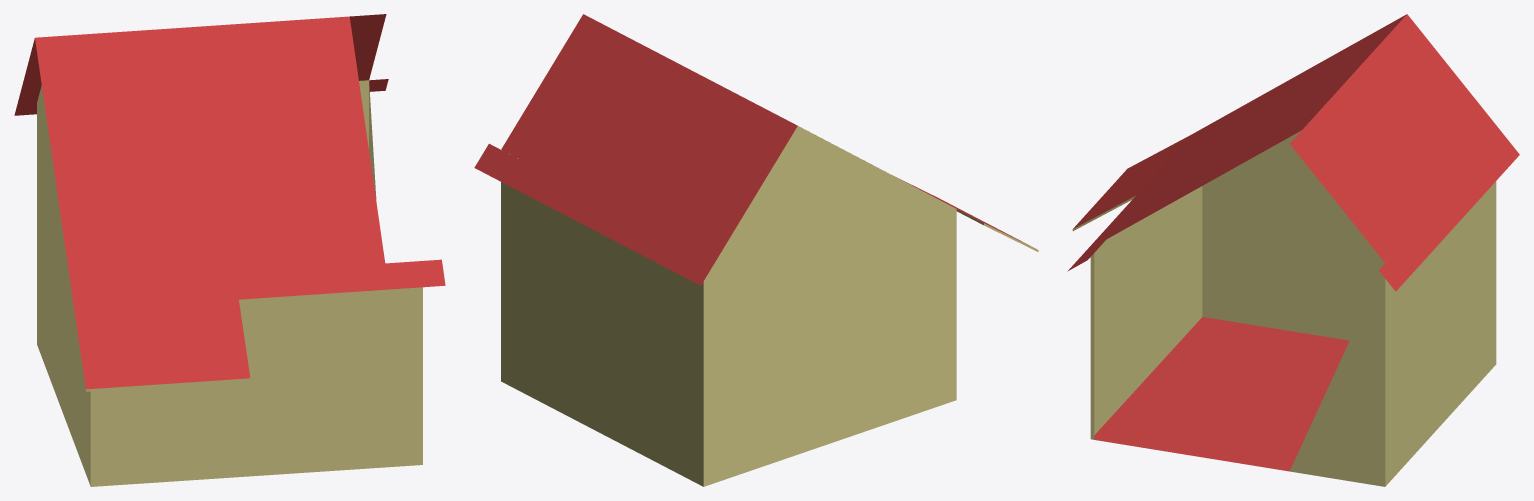
3 views of the same model, side by side, from view 1: azimuth 30°, elevation 25°; view 2: azimuth 150°, elevation 25°; view 3: azimuth 270°, elevation 25° (orthographic). The views are drawn at different scales.
Size of the model in its own units: 19.38 by 18.49 by 14.76.
